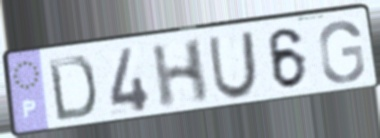4: (106, 44, 152, 115)
6: (266, 27, 311, 93)
D: (45, 54, 99, 124)
G: (316, 18, 367, 85)
H: (149, 36, 211, 112)
U: (206, 28, 260, 101)
